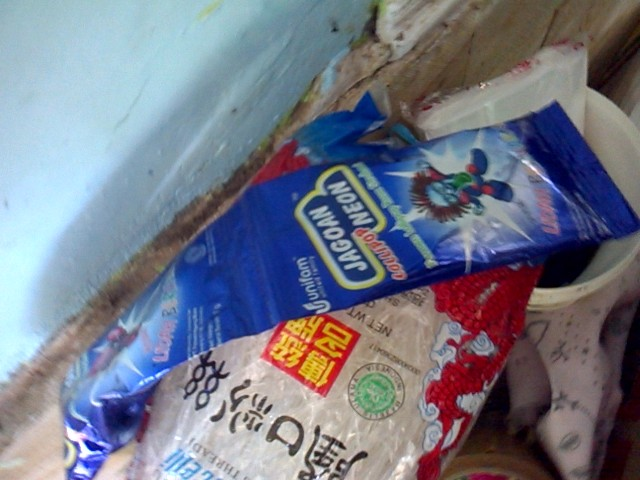jagoan neon: (233, 99, 640, 335)
